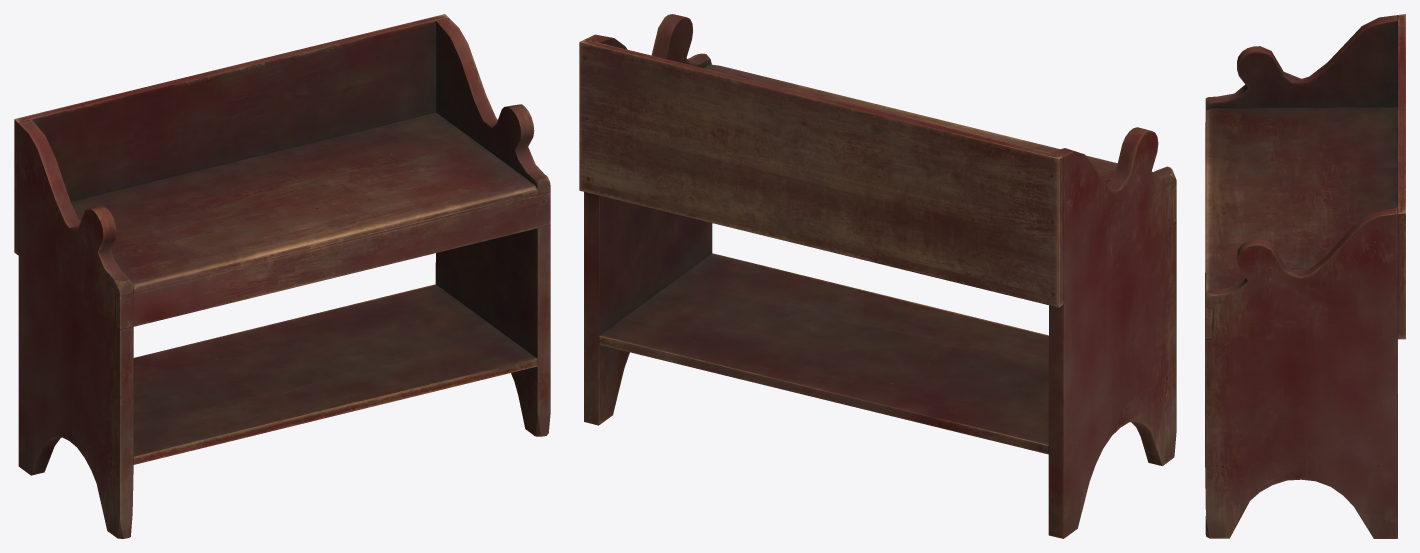
File: painted_wooden_bench.glb
The picture shows the model from 3 angles, left to right: view 1: azimuth 30°, elevation 25°; view 2: azimuth 150°, elevation 25°; view 3: azimuth 270°, elevation 25°; orthographic projection. The views are drawn at different scales.
Visible parts, largest first — view 1: painted_wooden_bench; view 2: painted_wooden_bench; view 3: painted_wooden_bench.
Part boxes in pixels (x1,y1,x2,y2): painted_wooden_bench: (14,14,550,538); painted_wooden_bench: (579,14,1176,538); painted_wooden_bench: (1205,14,1405,538).
Bounding box in the file's own units: 1.16 × 0.8893 × 0.4965.
1 material, 1 textured.
